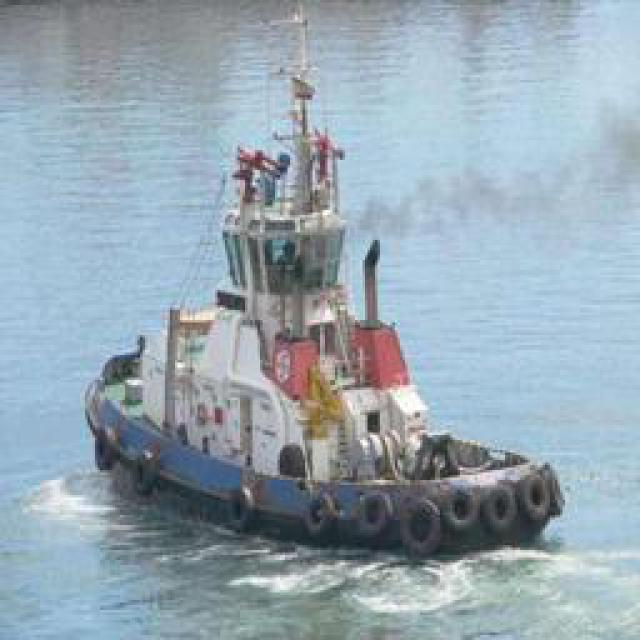Ship: (96, 59, 564, 549)
